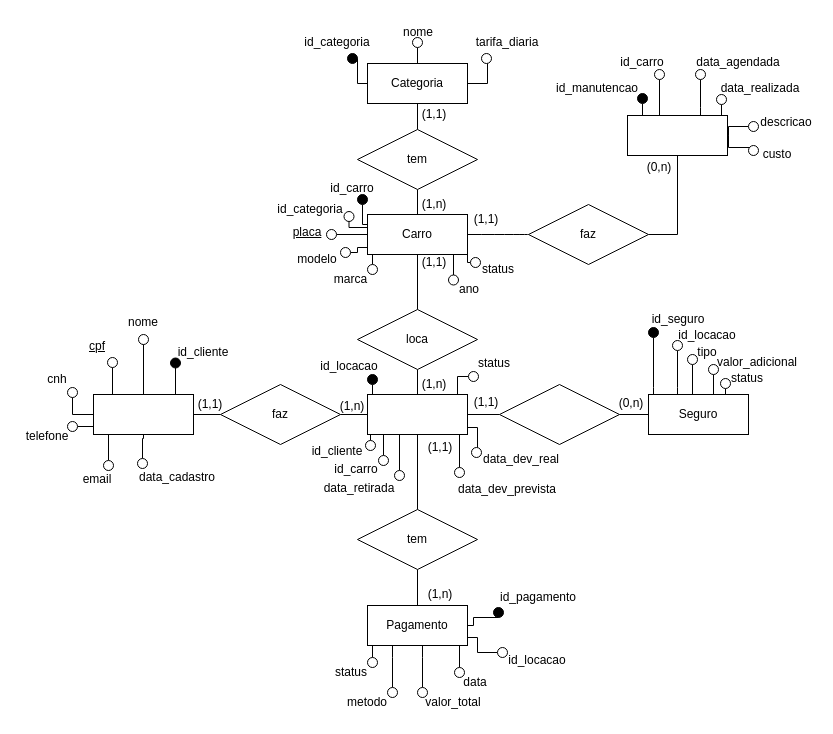
Some shapes in this 833 by 734 pixel diagram are drawn without their labels. The box of each missing label's shape, as (x1, y1, x2, y2) in pixels:
Cliente: (92, 394, 194, 434)
contrata: (498, 384, 620, 444)
Locacao: (366, 394, 468, 434)
Manutencao: (626, 114, 728, 156)
